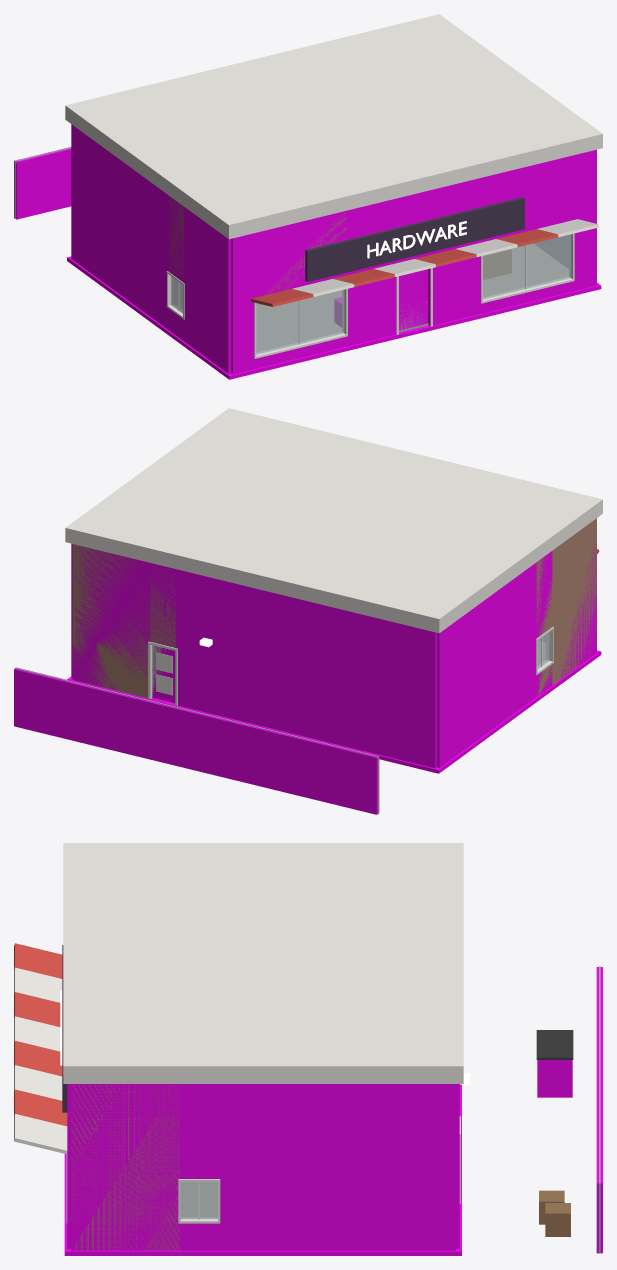
File: hardware.glb
The picture shows the model from 3 angles, top to bottom: view 1: azimuth 30°, elevation 25°; view 2: azimuth 150°, elevation 25°; view 3: azimuth 270°, elevation 25°; orthographic projection. The views are drawn at different scales.
Visible parts, largest first — view 1: Cornice, COL_Wall_West_0, Sign_Board, COL_Wall_West_3, Floor, COL_Wall_Front_5, COL_Wall_Front_1, COL_Wall_Front_3, COL_Wall_Front_6, Pane_Wall_Front_0, Pane_Wall_Front_1, COL_Alley_Fence (+17 smaller); view 2: Cornice, COL_Wall_Back_0, COL_Alley_Fence, COL_Wall_West_0, Wall_Back, COL_Wall_Back_2, Wall_West, COL_Slab, COL_Wall_Back_1, COL_Wall_West_3, COL_Wall_West_1, Alley_Fence (+3 smaller); view 3: Cornice, COL_Wall_East_0, COL_Wall_East_3, Wall_East, Awning2, Awning, COL_Wall_East_1, COL_Slab, COL_Alley_Fence, Pane_Wall_East_0, COL_Dumpster, Floor (+7 smaller).
Part boxes in pixels (x1=…): Cornice: x1=65, y1=14, x2=602, y2=239; COL_Wall_West_0: x1=71, y1=124, x2=168, y2=329; Sign_Board: x1=305, y1=197, x2=524, y2=282; COL_Wall_West_3: x1=184, y1=207, x2=231, y2=373; Floor: x1=175, y1=244, x2=568, y2=352; COL_Wall_Front_5: x1=428, y1=177, x2=482, y2=325; COL_Wall_Front_1: x1=255, y1=211, x2=346, y2=297; COL_Wall_Front_3: x1=346, y1=198, x2=398, y2=346; COL_Wall_Front_6: x1=482, y1=155, x2=572, y2=242; Pane_Wall_Front_0: x1=256, y1=290, x2=344, y2=354; Pane_Wall_Front_1: x1=483, y1=234, x2=570, y2=299; COL_Alley_Fence: x1=14, y1=147, x2=71, y2=219; Cornice: x1=65, y1=408, x2=602, y2=633; COL_Wall_Back_0: x1=175, y1=569, x2=436, y2=768; COL_Alley_Fence: x1=14, y1=667, x2=379, y2=814; COL_Wall_West_0: x1=437, y1=562, x2=536, y2=767; Wall_Back: x1=72, y1=544, x2=175, y2=698; COL_Wall_Back_2: x1=72, y1=545, x2=150, y2=689; Wall_West: x1=536, y1=518, x2=596, y2=694; COL_Slab: x1=67, y1=650, x2=601, y2=773; COL_Wall_Back_1: x1=150, y1=563, x2=175, y2=646; COL_Wall_West_3: x1=560, y1=532, x2=596, y2=679; COL_Wall_West_1: x1=536, y1=551, x2=552, y2=638; Alley_Fence: x1=14, y1=667, x2=378, y2=814; Cornice: x1=63, y1=843, x2=463, y2=1083; COL_Wall_East_0: x1=218, y1=1084, x2=455, y2=1250; COL_Wall_East_3: x1=71, y1=1084, x2=179, y2=1250; Wall_East: x1=71, y1=1084, x2=179, y2=1250; Awning2: x1=14, y1=967, x2=67, y2=1154; Awning: x1=14, y1=943, x2=67, y2=1126; COL_Wall_East_1: x1=180, y1=1084, x2=218, y2=1178; COL_Slab: x1=64, y1=1084, x2=461, y2=1255; COL_Alley_Fence: x1=596, y1=967, x2=602, y2=1253; Pane_Wall_East_0: x1=180, y1=1182, x2=217, y2=1218; COL_Dumpster: x1=537, y1=1060, x2=572, y2=1097; Floor: x1=181, y1=1182, x2=217, y2=1216.
Bounding box in the file's own units: 16.5 × 6.55 × 18.38.
